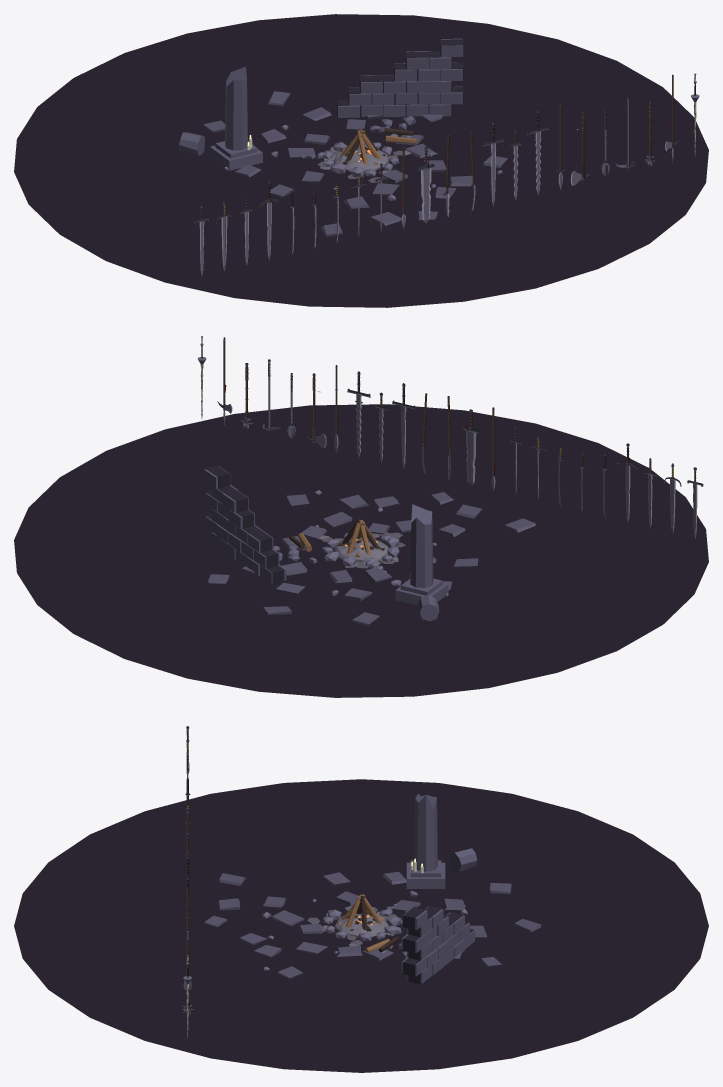
The model's file is bonfire.glb.
3 views of the same model, one above another, from view 1: azimuth 30°, elevation 25°; view 2: azimuth 150°, elevation 25°; view 3: azimuth 270°, elevation 25° (orthographic).
Parts seen in each view (by area): view 1: Static_Ground, Static_Pillar, Static_Flagstone, Static_Mortar, Static_Stone, Static_Ash, Static_Wood, Weapon_greatsword; view 2: Static_Ground, Static_Pillar, Static_Flagstone, Static_Mortar, Static_Stone, Static_Ash, Weapon_greatsword, Static_Wood; view 3: Static_Ground, Static_Pillar, Static_Flagstone, Static_Mortar, Static_Stone, Static_Ash, Static_Wood.
Boxes of the visible parts, x1,y1,x2,y2 form: Static_Ground: (14, 14, 708, 307); Static_Pillar: (179, 38, 463, 170); Static_Flagstone: (203, 91, 507, 237); Static_Mortar: (337, 39, 463, 117); Static_Stone: (224, 125, 502, 200); Static_Ash: (320, 144, 411, 173); Static_Wood: (340, 129, 417, 164); Weapon_greatsword: (418, 147, 434, 223); Static_Ground: (14, 404, 708, 697); Static_Pillar: (204, 466, 448, 621); Static_Flagstone: (208, 492, 535, 625); Static_Mortar: (206, 465, 284, 584); Static_Stone: (289, 490, 448, 596); Static_Ash: (319, 535, 398, 567); Weapon_greatsword: (463, 409, 478, 485); Static_Wood: (298, 519, 376, 556); Static_Ground: (14, 779, 708, 1072); Static_Pillar: (399, 793, 477, 983); Static_Flagstone: (204, 871, 541, 978); Static_Mortar: (403, 905, 473, 984); Static_Stone: (262, 890, 467, 970); Static_Ash: (323, 911, 402, 946); Static_Wood: (338, 894, 389, 952).
Bounding box in the file's own units: 14 × 2.13 × 14.
